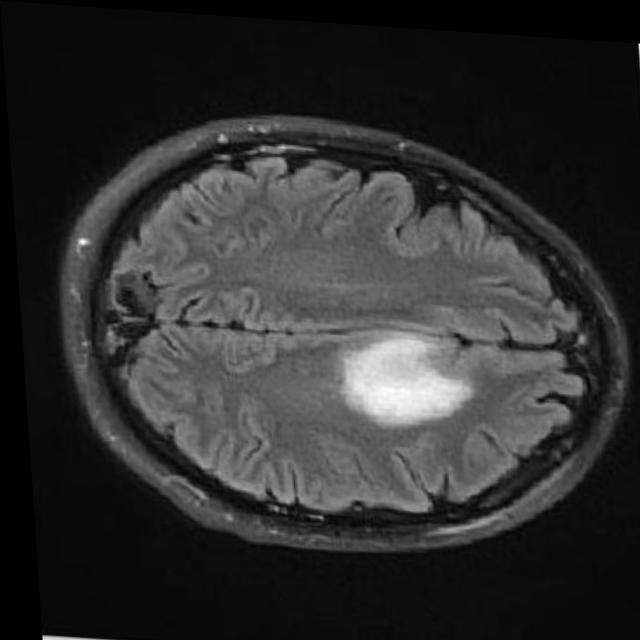Tumor: (334, 329, 464, 422)
